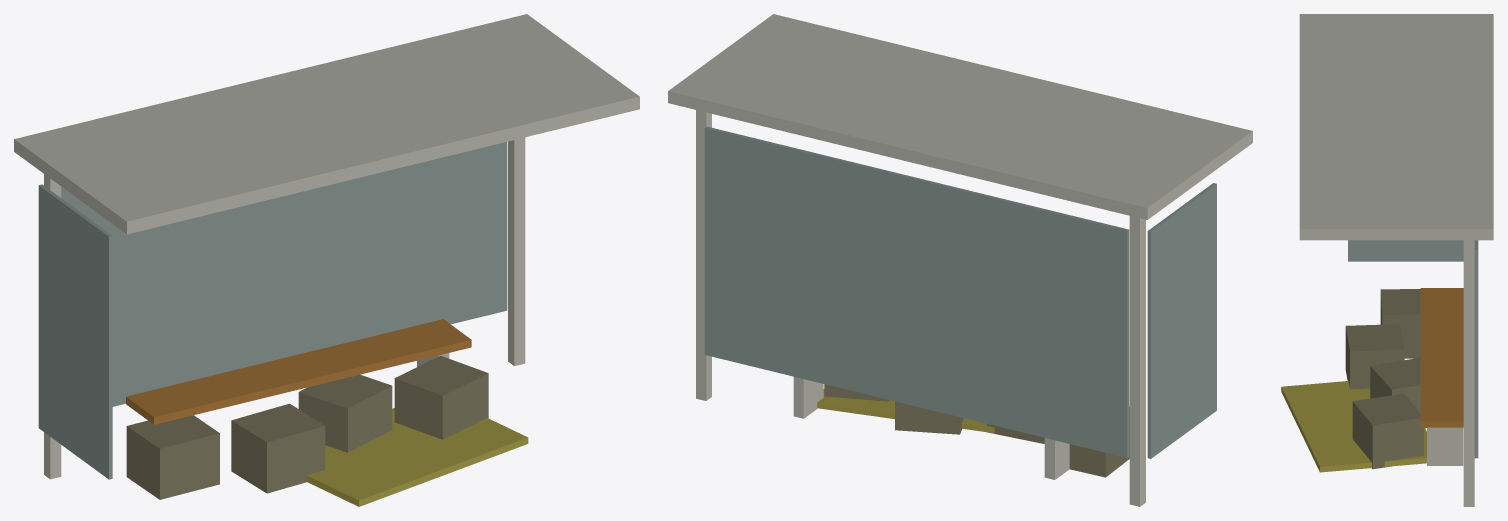
The model's file is SM_ParadaBus_v3_Refugio_LOD0.fbx.
The picture shows the model from 3 angles, left to right: view 1: azimuth 30°, elevation 25°; view 2: azimuth 150°, elevation 25°; view 3: azimuth 270°, elevation 25°; orthographic projection. The views are drawn at different scales.
Visible parts, largest first — view 1: SM_urbano_extra_v8_LOD0; view 2: SM_urbano_extra_v8_LOD0; view 3: SM_urbano_extra_v8_LOD0.
Part boxes in pixels (left/top/right/bottom): SM_urbano_extra_v8_LOD0: left=14, top=14, right=639, bottom=506; SM_urbano_extra_v8_LOD0: left=668, top=14, right=1252, bottom=506; SM_urbano_extra_v8_LOD0: left=1281, top=14, right=1493, bottom=506.
Size of the model in its own units: 4.2 by 2.6 by 1.75.
